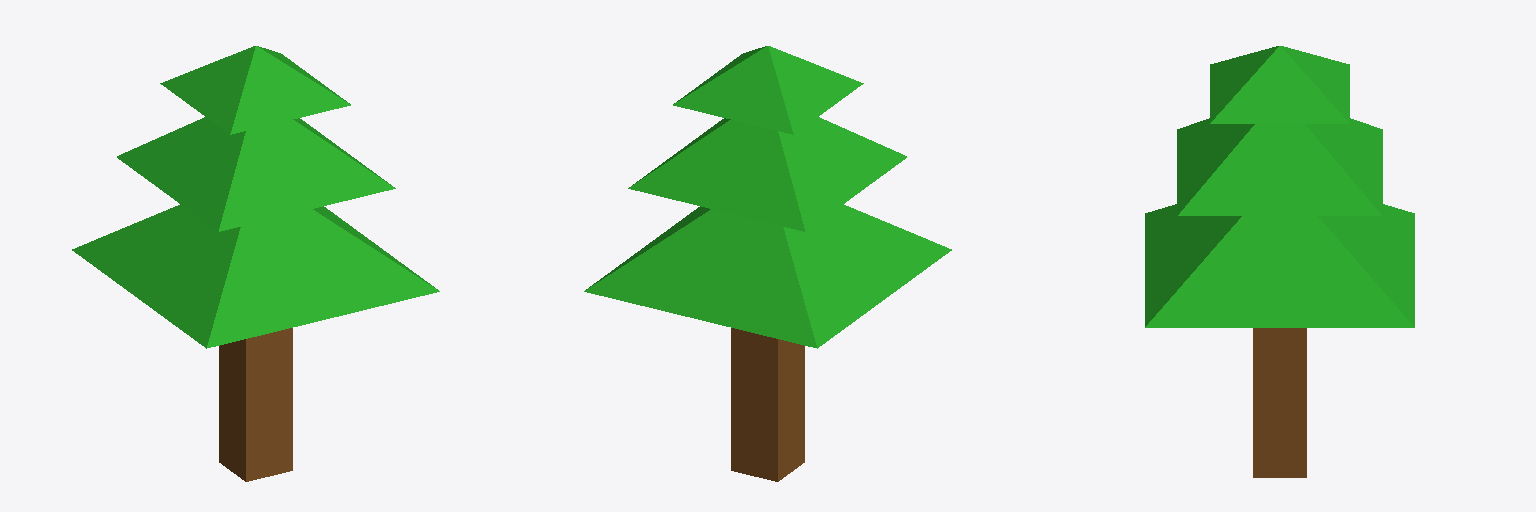
File: arbol.obj
The picture shows the model from 3 angles: view 1: azimuth 30°, elevation 25°; view 2: azimuth 150°, elevation 25°; view 3: azimuth 270°, elevation 25°; orthographic projection.
Bounding box in the file's own units: 2.5 × 4.3 × 2.5.